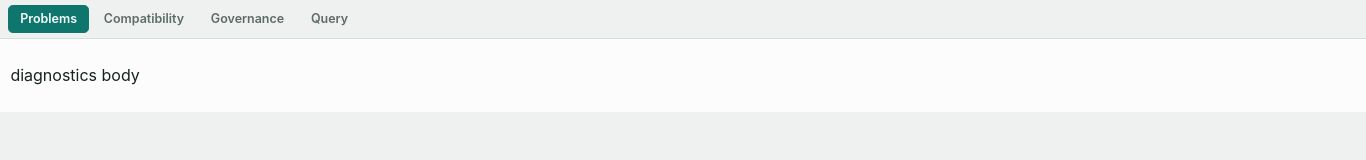
Test: BottomPanel › switches between tab bodies on click
Check: the text "diagnostics body" is shown, box [10,65,140,85]
Check: the text "governance body" is not shown
Click the tab "Governance" at (248, 19), box [199,5,296,33]
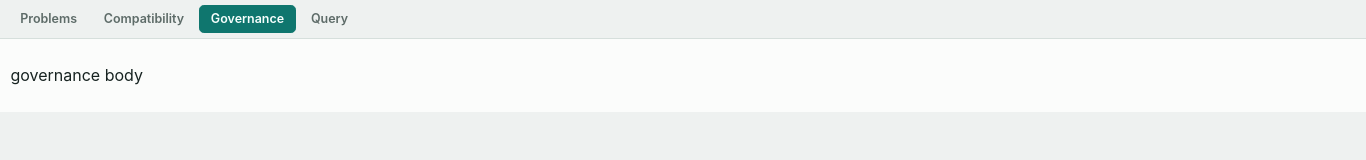
Check: the text "governance body" is shown, box [10,65,143,85]
Check: the text "diagnostics body" is gone
